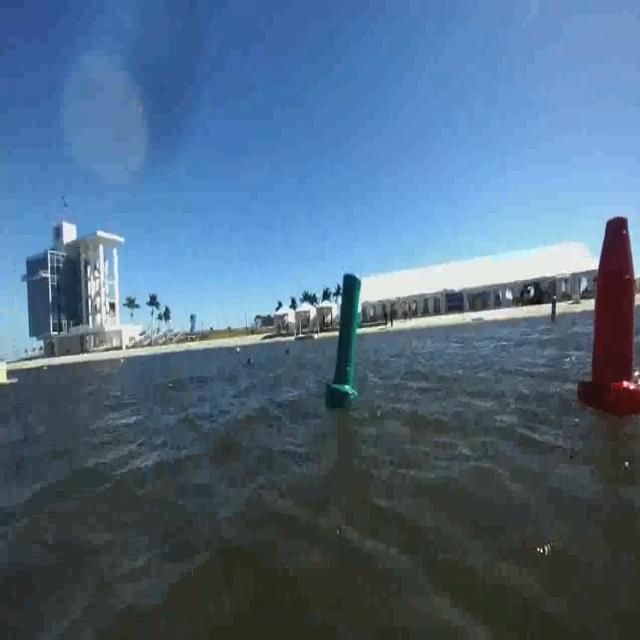green-column-buoy: (330, 272, 364, 402)
red-column-buoy: (580, 215, 640, 417)
